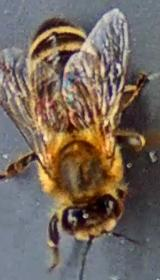varroa_mite: (33, 93, 57, 117)
